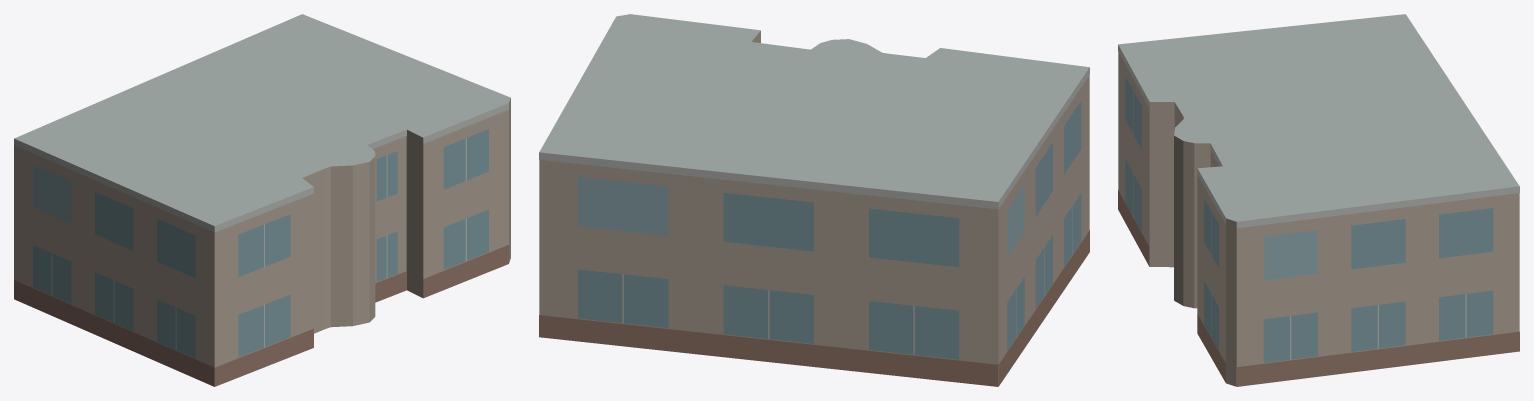
The model's file is survey-upis-32623676.glb.
3 renders of one model, left to right at view 1: azimuth 30°, elevation 25°; view 2: azimuth 150°, elevation 25°; view 3: azimuth 270°, elevation 25°, orthographic. The views are drawn at different scales.
Parts seen in each view (by area): view 1: survey-upis-32623676.tmp; view 2: survey-upis-32623676.tmp; view 3: survey-upis-32623676.tmp.
Part boxes in pixels (x1,y1,x2,y2): survey-upis-32623676.tmp: (14,14,510,386); survey-upis-32623676.tmp: (539,14,1089,386); survey-upis-32623676.tmp: (1118,14,1519,386).
Bounding box in the file's own units: 16.48 × 6.1 × 13.46.
